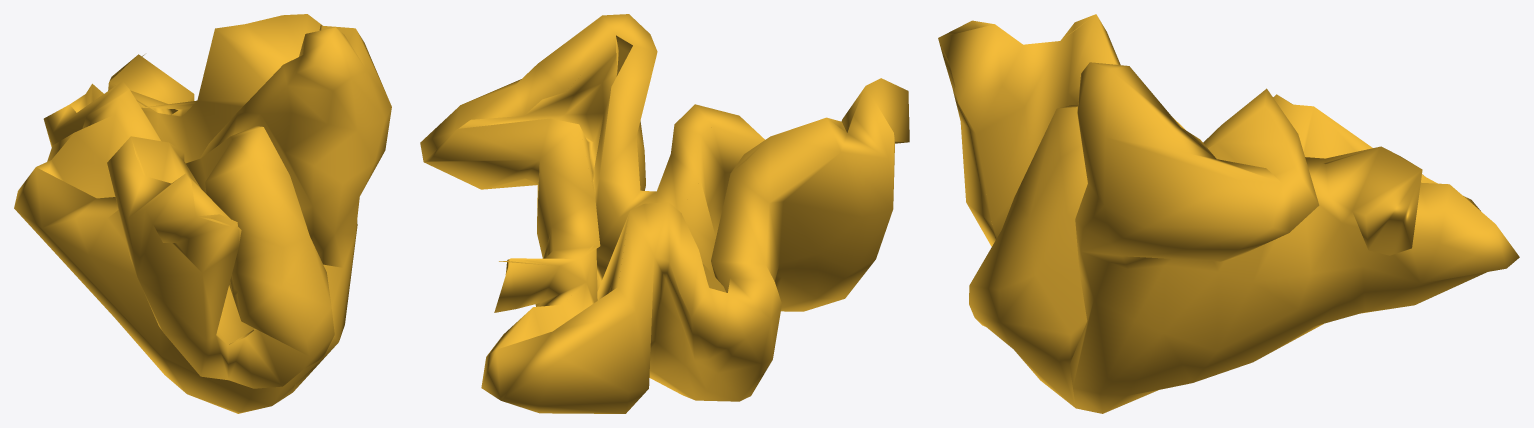
The model's file is nervoso-intraparietal-sulcus-r.glb.
3 views of the same model, side by side, from view 1: azimuth 30°, elevation 25°; view 2: azimuth 150°, elevation 25°; view 3: azimuth 270°, elevation 25° (orthographic). The views are drawn at different scales.
Parts seen in each view (by area): view 1: Intraparietal sulcus.r; view 2: Intraparietal sulcus.r; view 3: Intraparietal sulcus.r.
Part boxes in pixels (box(x1,y1,x2,y2)): Intraparietal sulcus.r: box(14, 14, 391, 413); Intraparietal sulcus.r: box(420, 14, 909, 413); Intraparietal sulcus.r: box(938, 14, 1519, 413).
Bounding box in the file's own units: 0.0262 × 0.0256 × 0.035.
